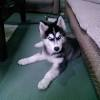Siberian Husky: (13, 8, 95, 90)
